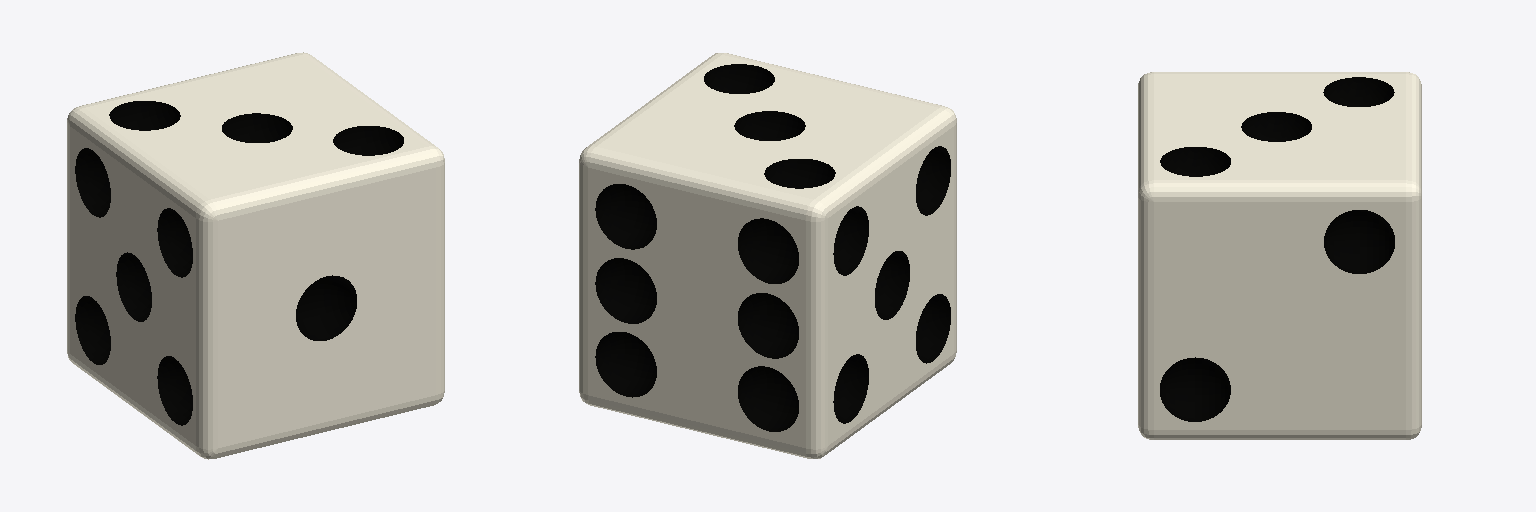
The picture shows the model from 3 angles: view 1: azimuth 30°, elevation 25°; view 2: azimuth 150°, elevation 25°; view 3: azimuth 270°, elevation 25°; orthographic projection.
Visible parts, largest first — view 1: Box001_Material_#25_0; view 2: Box001_Material_#25_0; view 3: Box001_Material_#25_0.
Part boxes in pixels (left/top/right/bottom): Box001_Material_#25_0: left=67, top=52, right=444, bottom=459; Box001_Material_#25_0: left=579, top=53, right=956, bottom=458; Box001_Material_#25_0: left=1138, top=72, right=1421, bottom=439.
Bounding box in the file's own units: 40 × 40 × 40.
Materials: 1 (1 with a texture image).